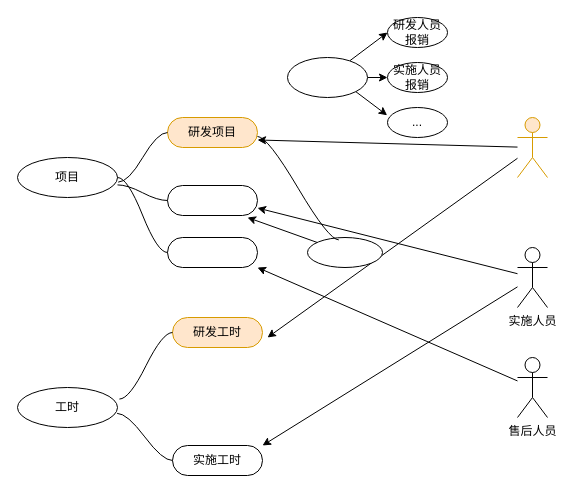
Some shapes in this 574 by 493 pixel diagram are drawn without their labels. Here are the shapes that lost their labels. From the top down, the centre of each, then its label:
At [327,77]: "报销".
At [532,147]: "研发人员".
At [212,200]: "实施项目".
At [212,252]: "售后项目".
At [344,252]: "客户".
